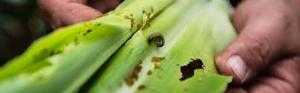fallarmy_worm: (144, 29, 170, 50)
